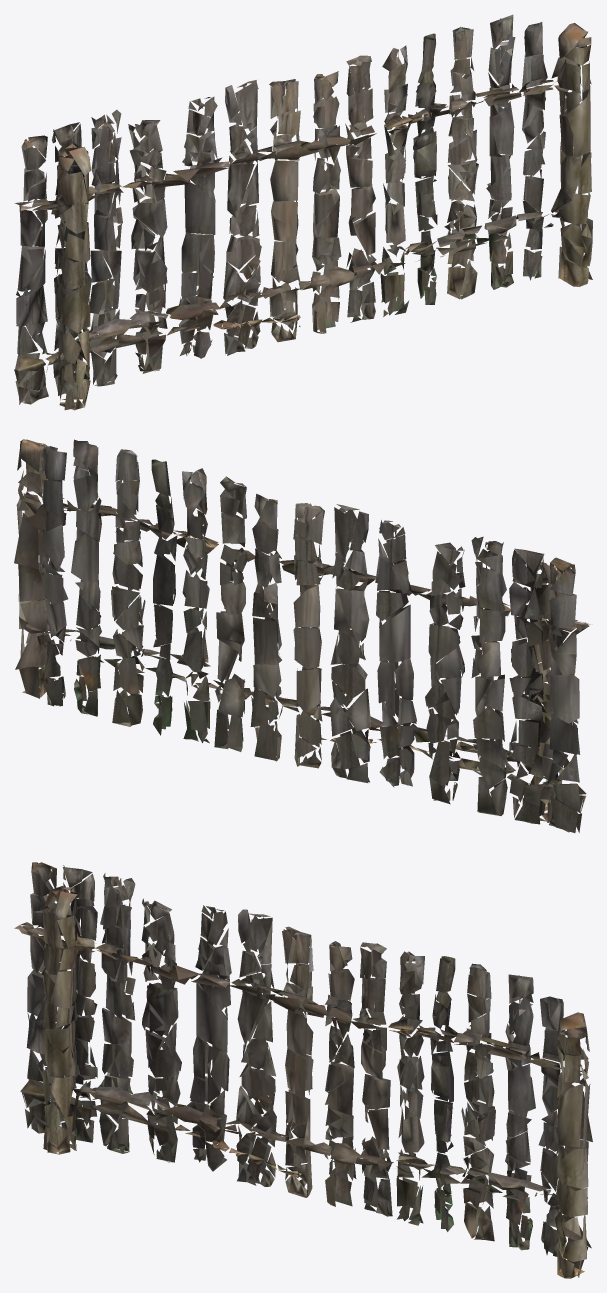
Rendered from fence-a.glb.
3 views of the same model, one above another, from view 1: azimuth 30°, elevation 25°; view 2: azimuth 150°, elevation 25°; view 3: azimuth 330°, elevation 25° (orthographic).
Visible parts, largest first — view 1: Mesh_0; view 2: Mesh_0; view 3: Mesh_0.
Boxes of the visible parts, bbox=[...] form: Mesh_0: bbox=[14, 14, 592, 410]; Mesh_0: bbox=[14, 439, 592, 832]; Mesh_0: bbox=[14, 862, 592, 1278].
Bounding box in the file's own units: 3.01 × 1.38 × 0.2303.
1 material, 1 textured.
